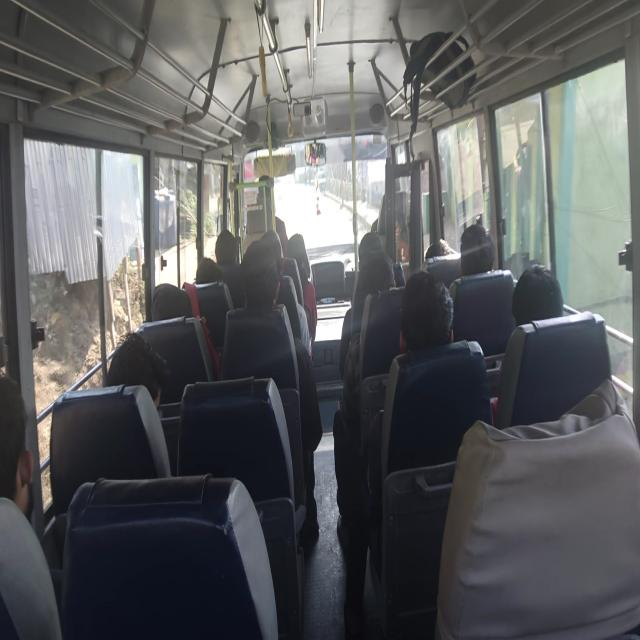person: (338, 269, 493, 636), (434, 376, 640, 638), (222, 238, 322, 541), (0, 374, 62, 638), (260, 229, 312, 359), (106, 330, 169, 412), (399, 270, 454, 353), (512, 263, 564, 326), (214, 228, 243, 308), (458, 223, 495, 276), (150, 282, 193, 322), (214, 229, 239, 269), (394, 211, 410, 263)
